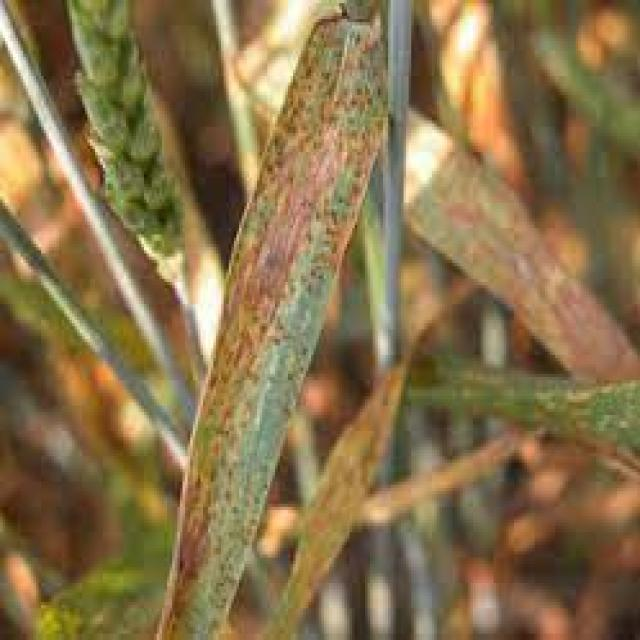leaf rust: (164, 22, 376, 640), (409, 105, 635, 377)
